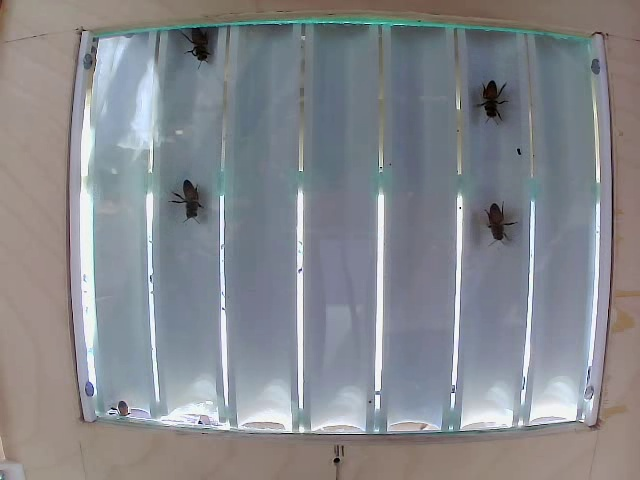bee: (466, 61, 509, 126), (181, 182, 231, 232), (474, 192, 511, 256)
